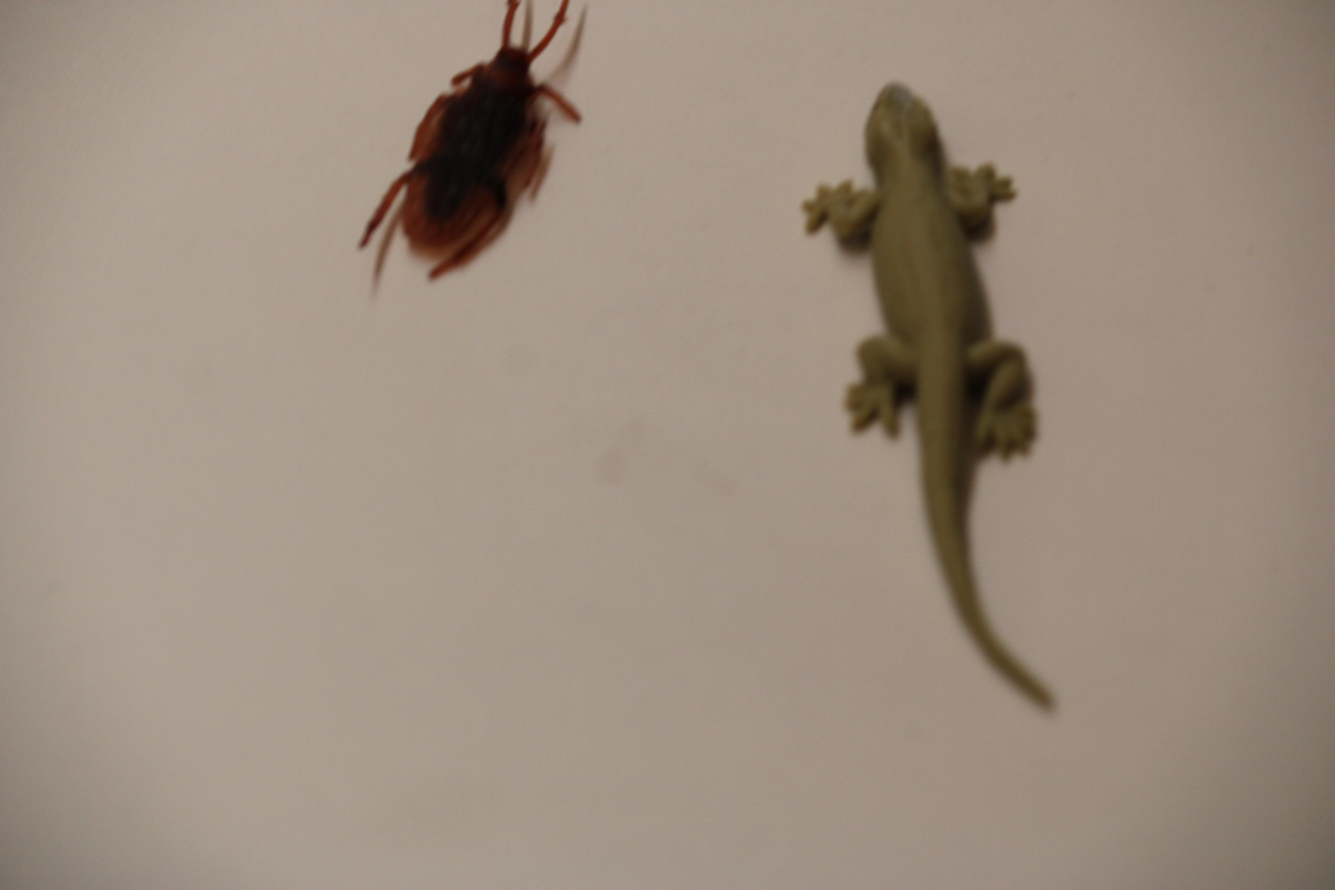cockroach: (341, 0, 587, 282)
lizard: (788, 78, 1085, 717)
